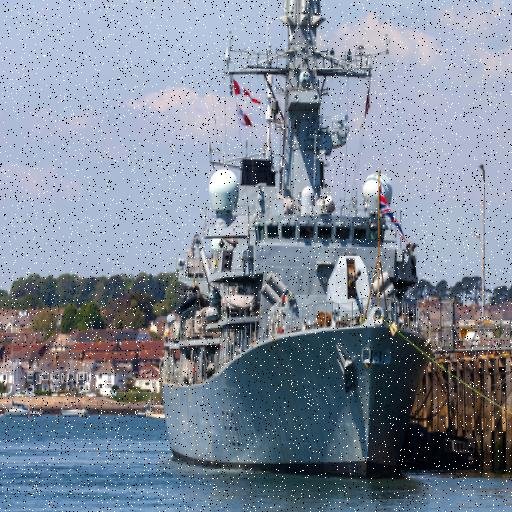Fragata: (158, 1, 440, 488)
